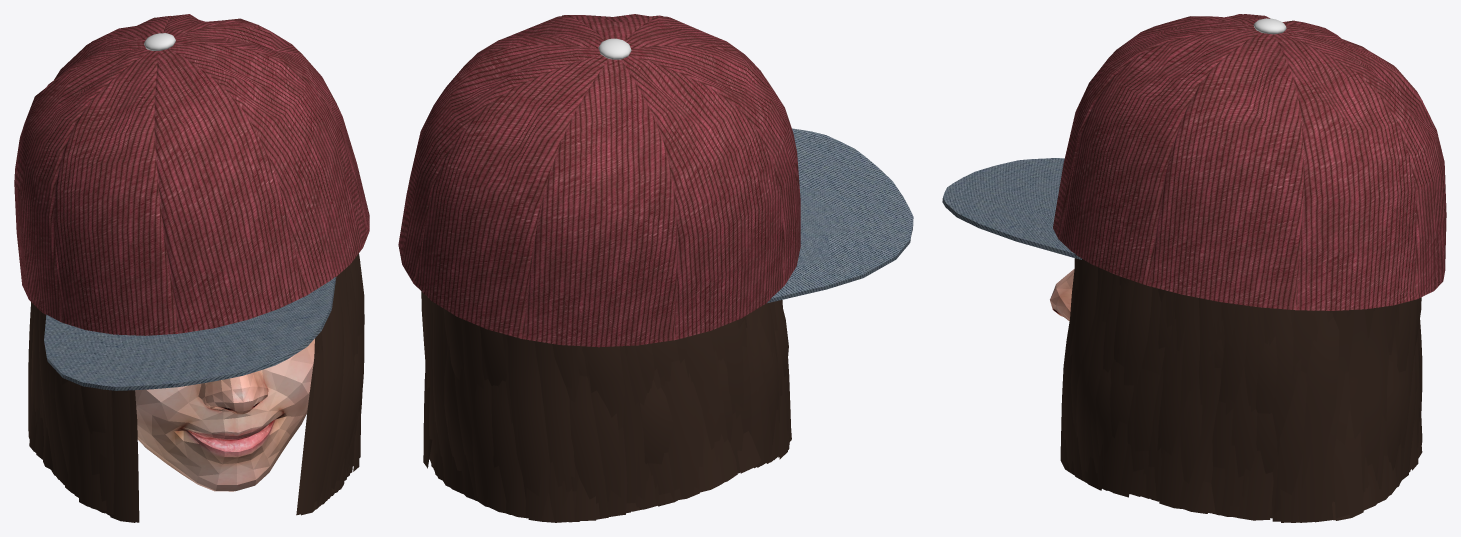
Rendered from avatar6.glb.
3 views of the same model, side by side, from view 1: azimuth 30°, elevation 25°; view 2: azimuth 150°, elevation 25°; view 3: azimuth 270°, elevation 25° (orthographic). The views are drawn at different scales.
Visible parts, largest first — view 1: l-poly.001, Female_Bob_Haircut, Mesh_0, Mesh_0.001; view 2: l-poly.001, Female_Bob_Haircut; view 3: l-poly.001, Female_Bob_Haircut, Mesh_0.
Boxes of the visible parts, x1,y1,x2,y2 form: l-poly.001: (14,14,369,390); Female_Bob_Haircut: (28,253,364,522); Mesh_0: (135,366,275,491); Mesh_0.001: (188,339,314,491); l-poly.001: (398,14,913,347); Female_Bob_Haircut: (421,291,791,522); l-poly.001: (942,14,1446,310); Female_Bob_Haircut: (1060,258,1422,522); Mesh_0: (1050,269,1074,321).
Bounding box in the file's own units: 3.11 × 3.37 × 3.6.
Materials: 4 (3 with a texture image).
